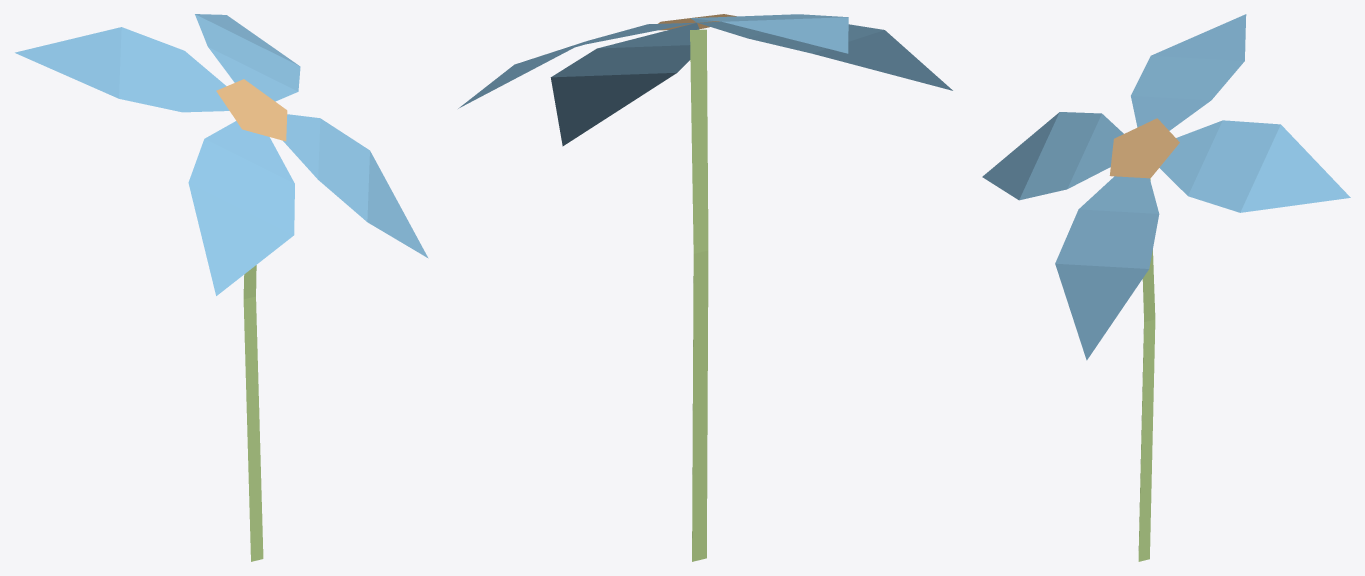
File: Flower_a_OneS_05.fbx
3 renders of one model, left to right at view 1: azimuth 30°, elevation 25°; view 2: azimuth 150°, elevation 25°; view 3: azimuth 270°, elevation 25°, orthographic. The views are drawn at different scales.
Parts seen in each view (by area): view 1: Flower_a_OneS_05; view 2: Flower_a_OneS_05; view 3: Flower_a_OneS_05.
Part boxes in pixels (x1=…): Flower_a_OneS_05: x1=15, y1=14, x2=428, y2=561; Flower_a_OneS_05: x1=458, y1=14, x2=952, y2=561; Flower_a_OneS_05: x1=982, y1=14, x2=1350, y2=561.
Bounding box in the file's own units: 0.4562 × 0.6797 × 0.49.
